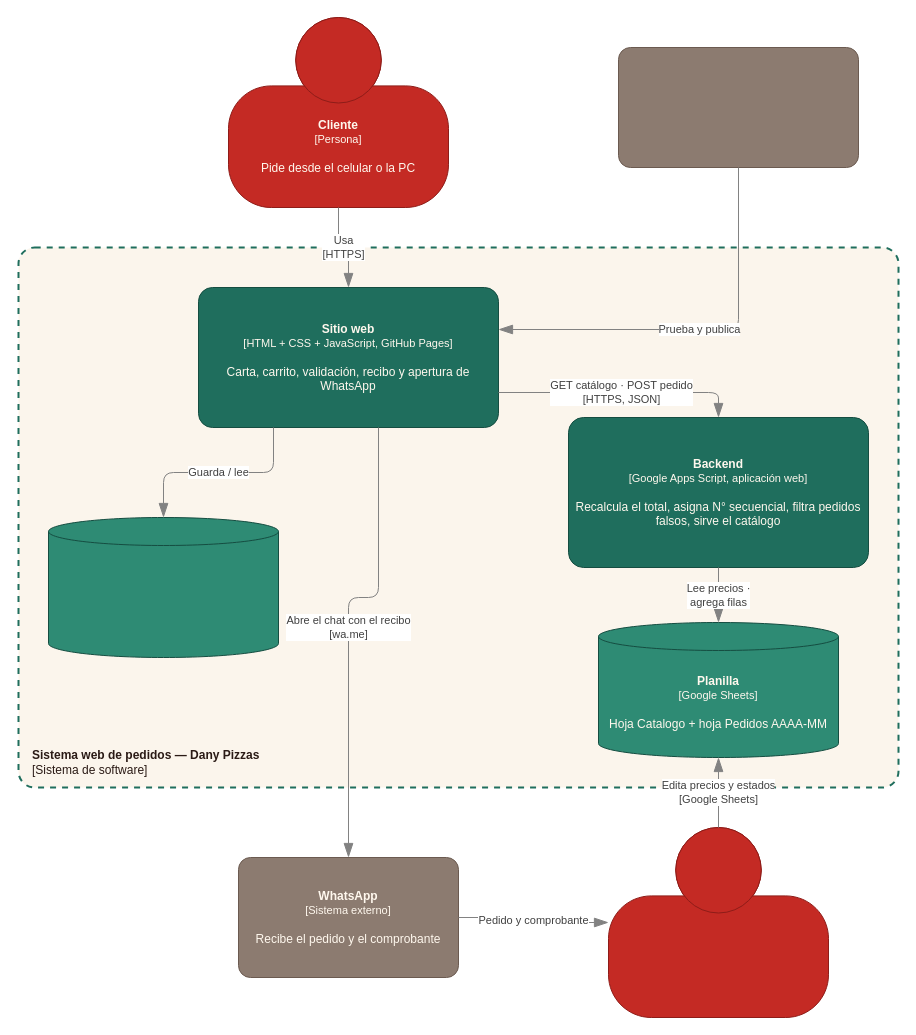
Image size: 916x1035. Some labels were removed from this diagram. Each missing label, with the centre of its shape:
"Almacenamiento local [localStorage del navegador] Carrito y datos del cliente" goes at point (163, 587).
"Atención / Dueño [Persona] Valida pagos, prepara, edita precios y estados" goes at point (718, 922).
"GitHub Actions [CI/CD] 44 pruebas y publicación en cada cambio" goes at point (738, 107).
